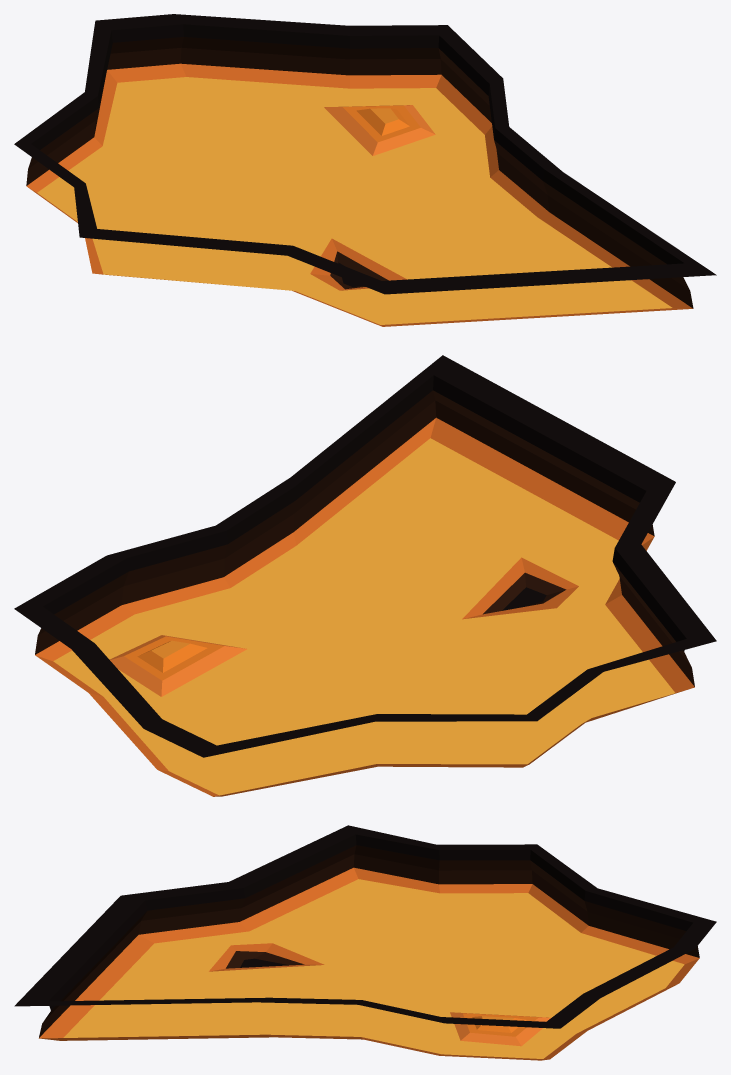
File: Suelo.fbx
3 views of the same model, one above another, from view 1: azimuth 30°, elevation 25°; view 2: azimuth 150°, elevation 25°; view 3: azimuth 270°, elevation 25° (orthographic). The views are drawn at different scales.
Visible parts, largest first — view 1: Plane001; view 2: Plane001; view 3: Plane001.
Boxes of the visible parts, x1=… form: Plane001: x1=14, y1=14, x2=716, y2=326; Plane001: x1=14, y1=355, x2=716, y2=796; Plane001: x1=14, y1=825, x2=716, y2=1060.
Size of the model in its own units: 1312 by 143 by 1915.
